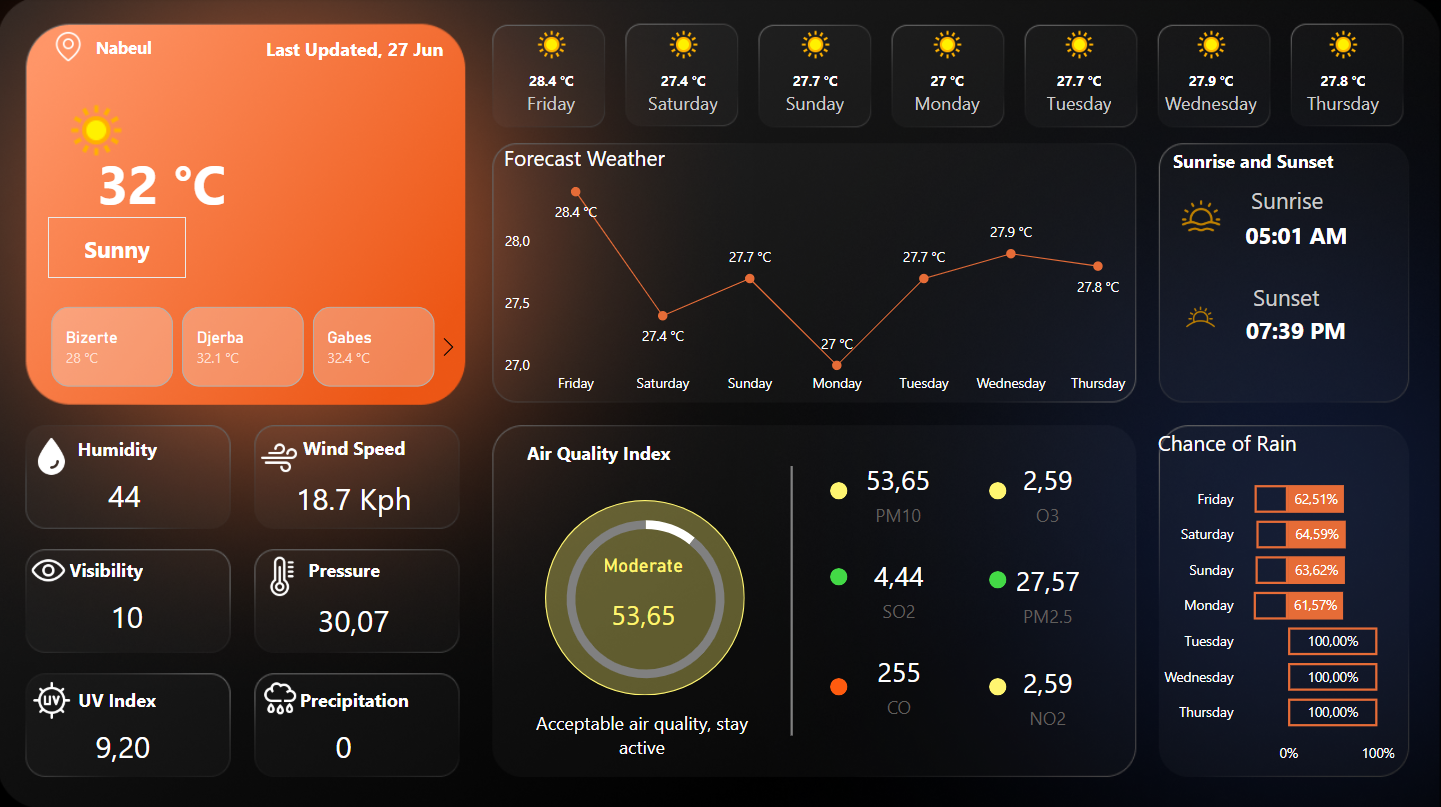

Layout of this report page (visuals, bound fields, positions):
{"tool":"powerbi","page":{"name":"Page 1","canvas":[1280,720],"ordinal":0},"visuals":[{"type":"shape","box":[486.2,444.9,177.2,173.3],"z":0},{"type":"donutChart","fields":{"Y":["Sum(Current.current.air_quality.pm10)","_Measures.left_Value_PM10"]},"box":[469.4,441,212.1,184.9],"z":1000},{"type":"advancedSlicerVisual","fields":{"Values":["Locations.location.name"]},"box":[23.4,268.6,392.7,81.8],"z":2000},{"type":"shape","box":[45.3,109.5,201.5,110.9],"z":3000},{"type":"shape","box":[45.3,194.2,122.6,54],"z":4000},{"type":"shape","box":[45.3,23.4,134.3,42.3],"z":5000},{"type":"image","box":[45.3,23.4,36.5,40.9],"z":6000},{"type":"shape","box":[220.4,23.4,192.7,42.3],"z":7000},{"type":"cardVisual","fields":{"Data":["Min(Current.current.condition.icon)"]},"box":[23.4,59.9,122.6,99.3],"z":8000},{"type":"image","box":[23.4,484.7,45.3,45.3],"z":9000},{"type":"shape","box":[35,484.7,122.6,42.3],"z":10000},{"type":"image","box":[18.1,384.1,60.8,45.3],"z":11000},{"type":"image","box":[218.5,385.4,64.7,44],"z":12000},{"type":"image","box":[225,490.1,55.6,45.3],"z":13000},{"type":"image","box":[23.4,600,51.1,45.3],"z":14000},{"type":"image","box":[221.9,598.5,58.4,45.3],"z":15000},{"type":"shape","box":[45.3,378.1,122.6,42.3],"z":16000},{"type":"shape","box":[255.5,376.6,122.6,42.3],"z":17000},{"type":"shape","box":[246.7,484.7,122.6,42.3],"z":18000},{"type":"shape","box":[45.3,600,122.6,42.3],"z":19000},{"type":"shape","box":[255.5,600,122.6,42.3],"z":20000},{"type":"card","fields":{"Values":["Sum(Current.current.humidity)"]},"box":[33.6,419,159.1,45.3],"z":21000},{"type":"card","fields":{"Values":["_Measures.Wind_Speed"]},"box":[236.5,421.9,159.1,45.3],"z":22000},{"type":"card","fields":{"Values":["Sum(Current.current.vis_km)"]},"box":[35,527,159.1,45.3],"z":23000},{"type":"card","fields":{"Values":["Sum(Current.current.pressure_in)"]},"box":[236.5,529.9,159.1,45.3],"z":24000},{"type":"card","fields":{"Values":["Sum(Current.current.uv)"]},"box":[32.1,642.3,159.1,45.3],"z":25000},{"type":"card","fields":{"Values":["Sum(Current.current.precip_in)"]},"box":[227.7,642.3,159.1,45.3],"z":26000},{"type":"advancedSlicerVisual","fields":{"Values":["Forecast_Day.Day_Name"]},"box":[432.1,13.1,823.4,108],"z":27000},{"type":"lineChart","title":"Forecast Weather","fields":{"Y":["Sum(Forecast_Day.forecast.forecastday.day.avgtemp_c)"],"Category":["Forecast_Day.Day_Name"]},"box":[444.3,128.8,567.8,231.3],"z":28000},{"type":"shape","box":[1024.6,122.3,179.5,42.9],"z":29000},{"type":"shape","box":[1102.4,268.5,98.5,50.8],"z":30000},{"type":"shape","box":[1099.2,185.9,104.8,46.1],"z":31000},{"type":"shape","box":[1099.2,244.6,87.4,38.1],"z":32000},{"type":"shape","box":[1099.2,158.8,89,39.7],"z":33000},{"type":"image","box":[1038.9,260.5,55.6,44.5],"z":34000},{"type":"image","box":[1035.7,171.6,63.5,44.5],"z":35000},{"type":"hundredPercentStackedBarChart","title":"Chance of Rain","fields":{"Category":["Forecast_Day.Day_Name"],"Y":["Sum(Forecast_Day.forecast.forecastday.day.air_quality.co)","_Measures.Left_Value_Rain"]},"box":[1024.1,381.3,219.9,306.8],"z":36000},{"type":"shape","box":[444,381.2,178.6,42.2],"z":37000},{"type":"card","fields":{"Values":["Sum(Current.current.air_quality.no2)"]},"box":[887.1,403.5,90,70],"z":38000},{"type":"card","fields":{"Values":["Sum(Current.current.air_quality.pm2_5)"]},"box":[887.1,493.4,90,70],"z":39000},{"type":"card","fields":{"Values":["Sum(Current.current.air_quality.no2)"]},"box":[887.1,583.2,90,70],"z":40000},{"type":"card","fields":{"Values":["Sum(Current.current.air_quality.pm10)"]},"box":[753.7,403.5,90.5,69.8],"z":41000},{"type":"card","fields":{"Values":["Sum(Current.current.air_quality.so2)"]},"box":[754.2,488.4,90.5,69.8],"z":42000},{"type":"card","fields":{"Values":["Sum(Current.current.air_quality.co)"]},"box":[754.2,573.4,90.5,69.8],"z":43000},{"type":"shape","box":[738.4,429.3,15.5,15.5],"z":44000},{"type":"shape","box":[738.4,602.6,15.5,15.5],"z":45000},{"type":"shape","box":[879.4,429.3,15.5,15.5],"z":46000},{"type":"shape","box":[738.4,505.6,15.5,15.5],"z":47000},{"type":"shape","box":[879.4,508.2,15.5,15.5],"z":48000},{"type":"shape","box":[879.4,602.6,15.5,15.5],"z":49000},{"type":"shape","box":[663.4,415.1,82.8,239.2],"z":50000},{"type":"card","fields":{"Values":["Sum(Current.current.air_quality.pm10)"]},"box":[523.7,492.7,98.3,90.5],"z":51000},{"type":"shape","box":[461.7,618.1,219.8,69.8],"z":52000}]}

Visuals, with their boxes in screenshot pixels (x1, y1, x2, y2), scaled from the page's 1280x720 canvas onto the 1441x807 screenshot:
shape: crop(547, 499, 747, 693)
donutChart - Sum(Current.current.air_quality.pm10) x _Measures.left_Value_PM10: crop(528, 494, 767, 702)
advancedSlicerVisual - Locations.location.name: crop(26, 301, 468, 393)
shape: crop(51, 123, 278, 247)
shape: crop(51, 218, 189, 278)
shape: crop(51, 26, 202, 74)
image: crop(51, 26, 92, 72)
shape: crop(248, 26, 465, 74)
cardVisual - Min(Current.current.condition.icon): crop(26, 67, 164, 178)
image: crop(26, 543, 77, 594)
shape: crop(39, 543, 177, 591)
image: crop(20, 431, 89, 481)
image: crop(246, 432, 319, 481)
image: crop(253, 549, 316, 600)
image: crop(26, 672, 84, 723)
image: crop(250, 671, 316, 722)
shape: crop(51, 424, 189, 471)
shape: crop(288, 422, 426, 470)
shape: crop(278, 543, 416, 591)
shape: crop(51, 672, 189, 720)
shape: crop(288, 672, 426, 720)
card - Sum(Current.current.humidity): crop(38, 470, 217, 520)
card - _Measures.Wind_Speed: crop(266, 473, 445, 524)
card - Sum(Current.current.vis_km): crop(39, 591, 219, 641)
card - Sum(Current.current.pressure_in): crop(266, 594, 445, 645)
card - Sum(Current.current.uv): crop(36, 720, 215, 771)
card - Sum(Current.current.precip_in): crop(256, 720, 435, 771)
advancedSlicerVisual - Forecast_Day.Day_Name: crop(486, 15, 1413, 136)
"Forecast Weather" lineChart: crop(500, 144, 1139, 404)
shape: crop(1153, 137, 1356, 185)
shape: crop(1241, 301, 1352, 358)
shape: crop(1237, 208, 1355, 260)
shape: crop(1237, 274, 1336, 317)
shape: crop(1237, 178, 1338, 222)
image: crop(1170, 292, 1232, 342)
image: crop(1166, 192, 1237, 242)
"Chance of Rain" hundredPercentStackedBarChart: crop(1153, 427, 1400, 771)
shape: crop(500, 427, 701, 475)
card - Sum(Current.current.air_quality.no2): crop(999, 452, 1100, 531)
card - Sum(Current.current.air_quality.pm2_5): crop(999, 553, 1100, 631)
card - Sum(Current.current.air_quality.no2): crop(999, 654, 1100, 732)
card - Sum(Current.current.air_quality.pm10): crop(849, 452, 950, 530)
card - Sum(Current.current.air_quality.so2): crop(849, 547, 951, 626)
card - Sum(Current.current.air_quality.co): crop(849, 643, 951, 721)
shape: crop(831, 481, 849, 499)
shape: crop(831, 675, 849, 693)
shape: crop(990, 481, 1007, 499)
shape: crop(831, 567, 849, 584)
shape: crop(990, 570, 1007, 587)
shape: crop(990, 675, 1007, 693)
shape: crop(747, 465, 840, 733)
card - Sum(Current.current.air_quality.pm10): crop(590, 552, 700, 654)
shape: crop(520, 693, 767, 771)
